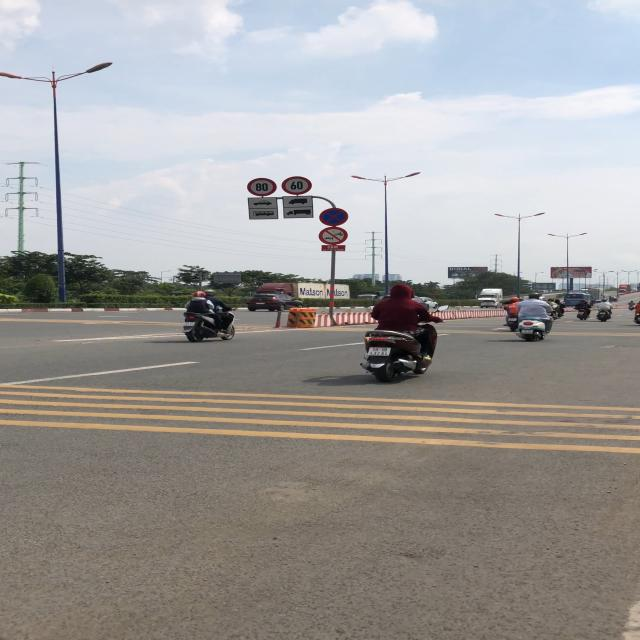Bien bao cam dung xe va do xe: (319, 206, 349, 227)
Bien bao toc do toi da cho phep: (245, 177, 277, 197), (280, 176, 313, 195)
